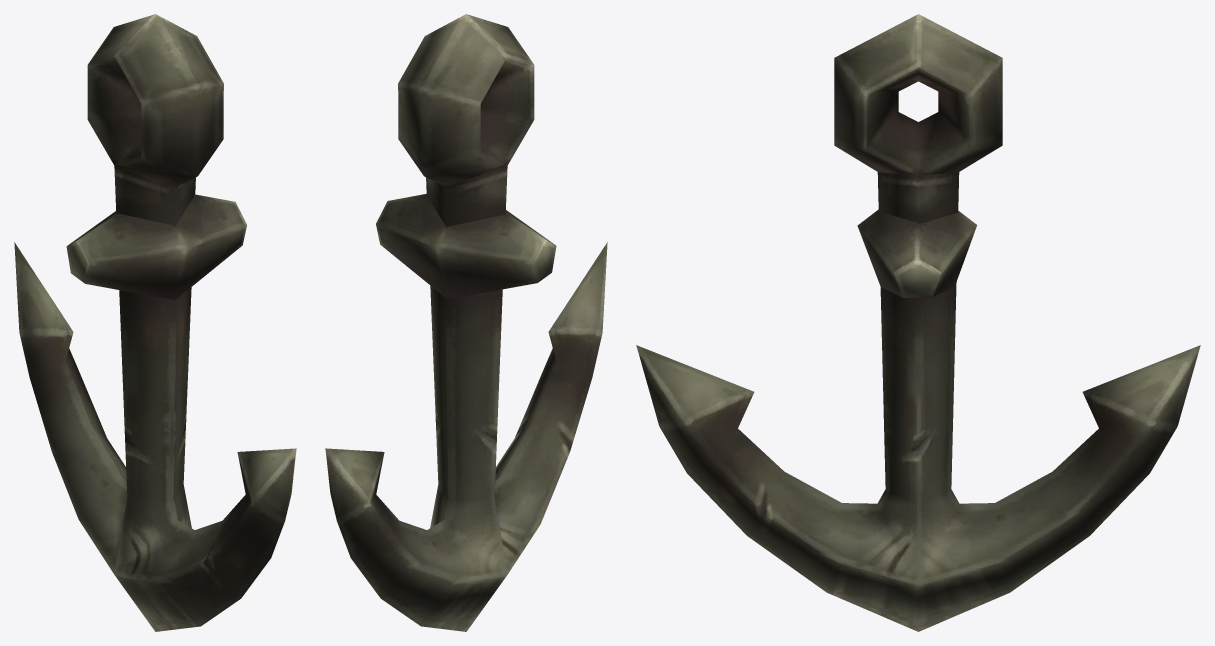
3 views of the same model, side by side, from view 1: azimuth 30°, elevation 25°; view 2: azimuth 150°, elevation 25°; view 3: azimuth 270°, elevation 25° (orthographic).
Bounding box in the file's own units: 0.5523 × 2.07 × 1.71.
Materials: 1 (1 with a texture image).
